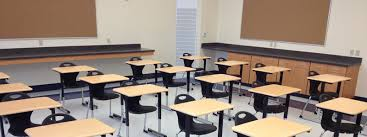desk: (113, 83, 168, 135), (169, 97, 235, 136), (0, 95, 64, 134), (78, 72, 128, 114), (314, 96, 366, 136), (246, 82, 302, 116), (51, 63, 97, 103), (24, 116, 115, 136), (230, 115, 312, 136), (305, 72, 352, 97), (193, 71, 241, 95), (154, 64, 195, 91), (124, 58, 164, 81), (250, 63, 292, 84), (213, 58, 248, 74), (179, 54, 211, 67)
